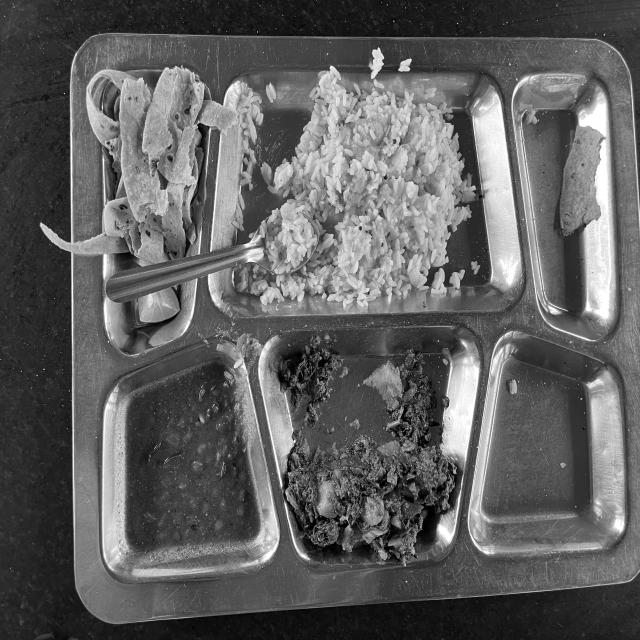50.2- Food Left: (83, 49, 631, 576)
